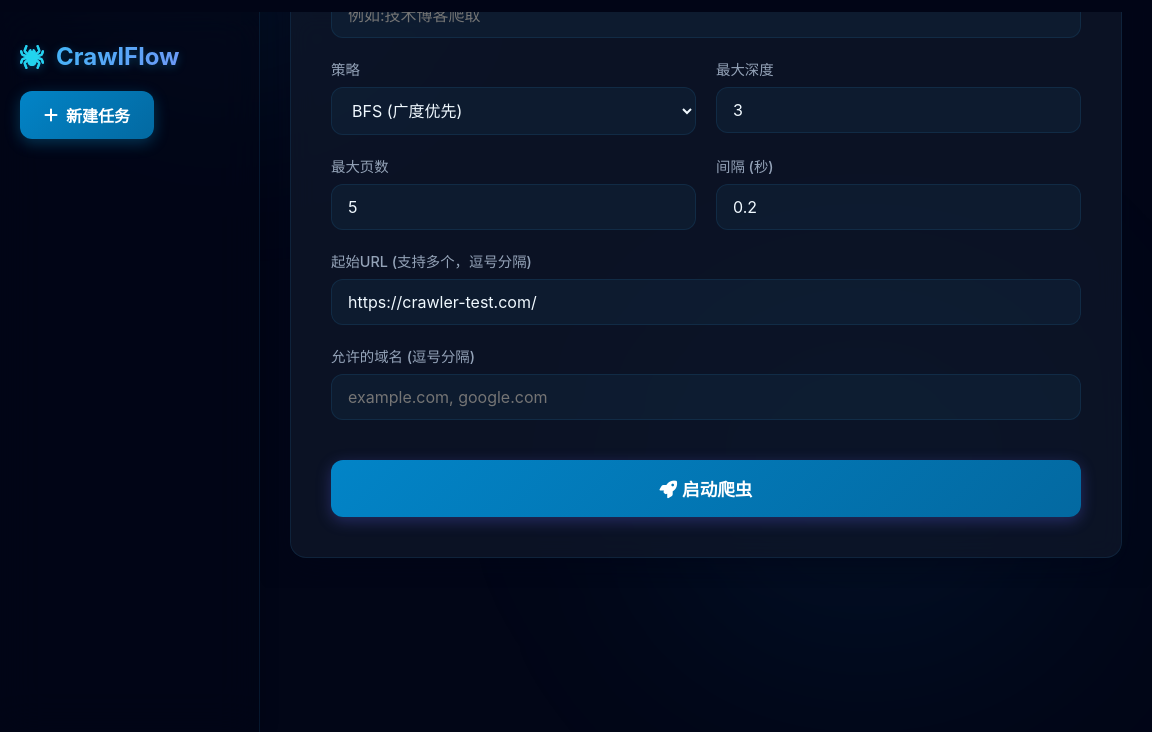
Test: CrawlerMain realtime logs › renders crawl_log messages in LogViewer for selected task
This screenshot has width=1152, height=732.
(page scrolled)
Click the button "启动爬虫" at (706, 488), box [331, 460, 1081, 517]
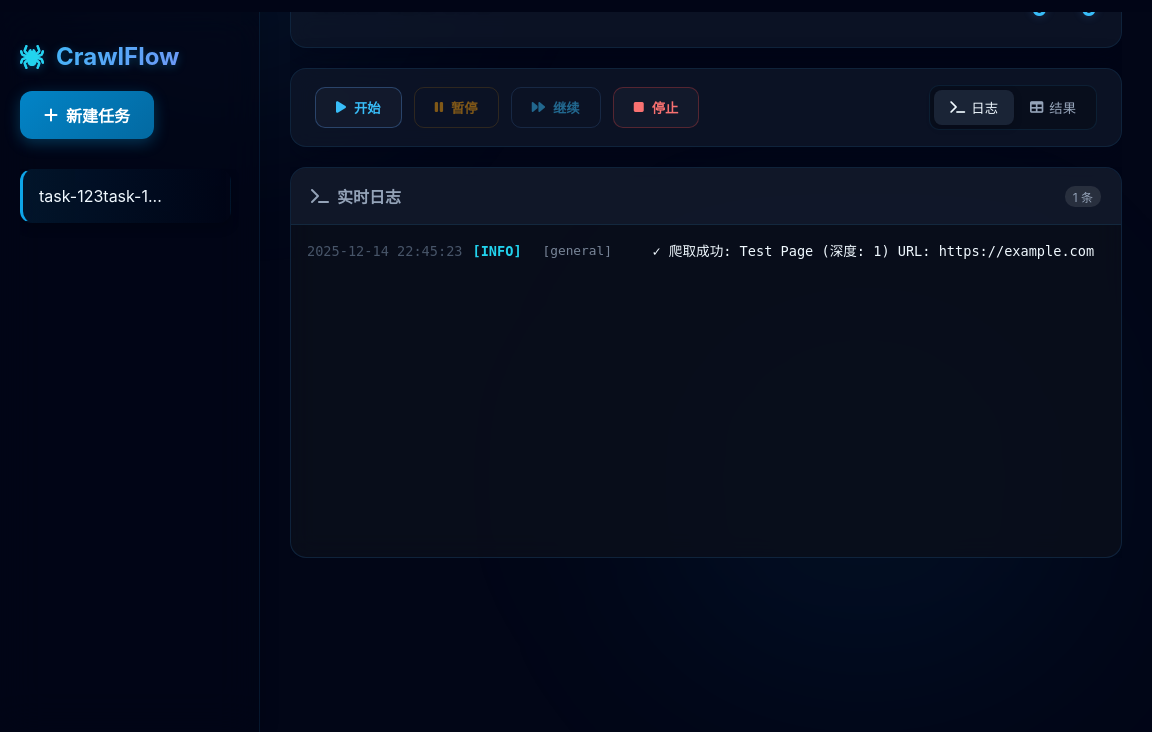
Check: the heading "实时日志" is shown, box [311, 184, 401, 208]
Check: the text "✓ 爬取成功: Test Page (深度: 1) URL: https://example.com" is shown, box [652, 241, 1094, 263]
